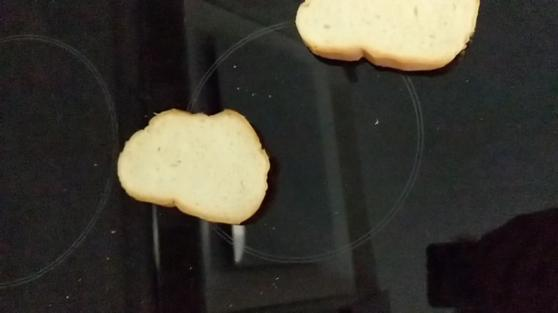white_bread: (115, 103, 277, 225), (299, 1, 490, 76)
